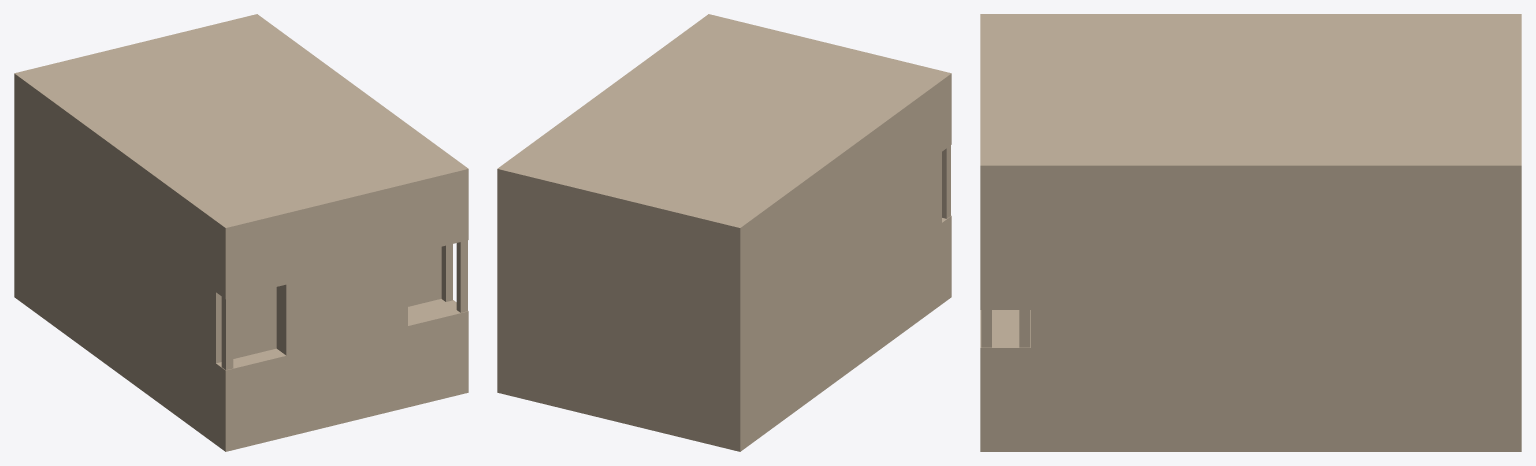
Rendered from massing.glb.
The picture shows the model from 3 angles, left to right: view 1: azimuth 30°, elevation 25°; view 2: azimuth 150°, elevation 25°; view 3: azimuth 270°, elevation 25°; orthographic projection. The views are drawn at different scales.
Parts seen in each view (by area): view 1: building/exterior; view 2: building/exterior; view 3: building/exterior.
Part boxes in pixels (left/top/right/bottom): building/exterior: left=14, top=14, right=468, bottom=451; building/exterior: left=497, top=14, right=951, bottom=451; building/exterior: left=980, top=14, right=1521, bottom=451.
Size of the model in its own units: 10 by 8.8 by 15.07.
